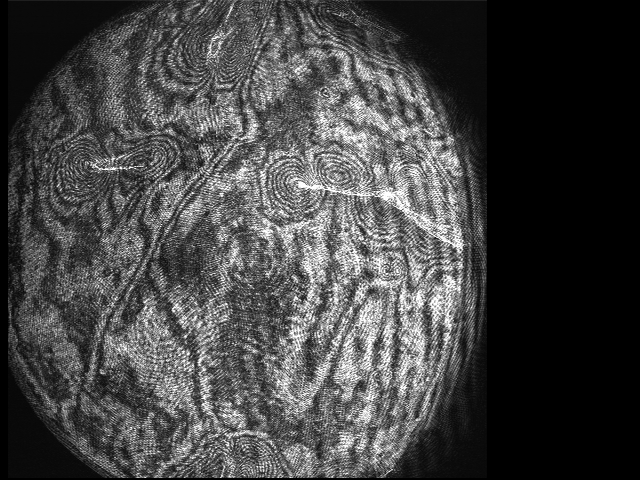plume: (52, 131, 182, 199), (161, 8, 270, 89), (258, 141, 372, 214)
